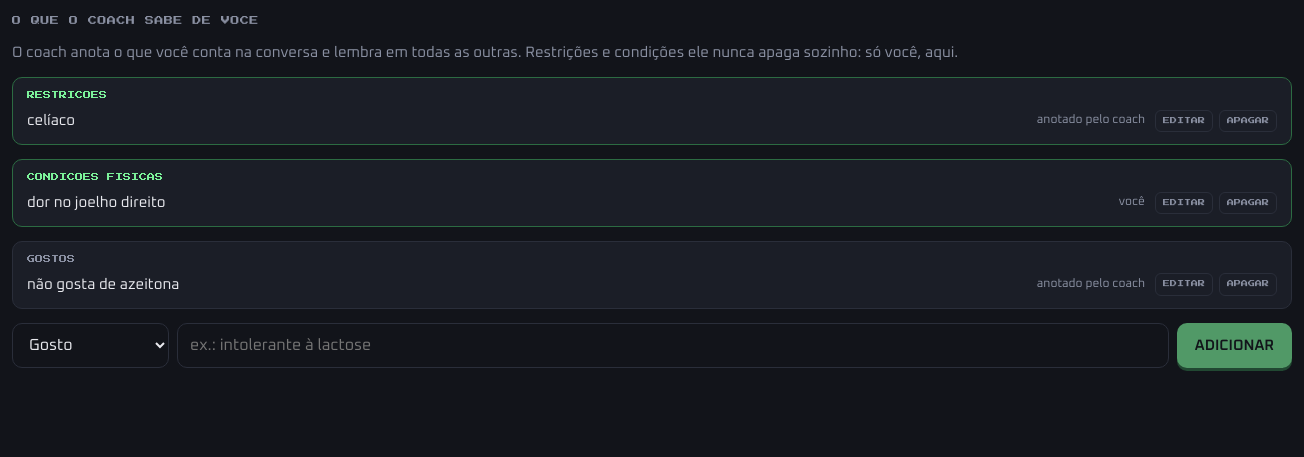
Scenario: Memorias › memória repetida ao editar mostra mensagem em português
The width and height of the screenshot is (1304, 457).
Click the button with aria-label "editar não gosta de azeitona".
click(1184, 284)  # box [1155, 273, 1213, 296]
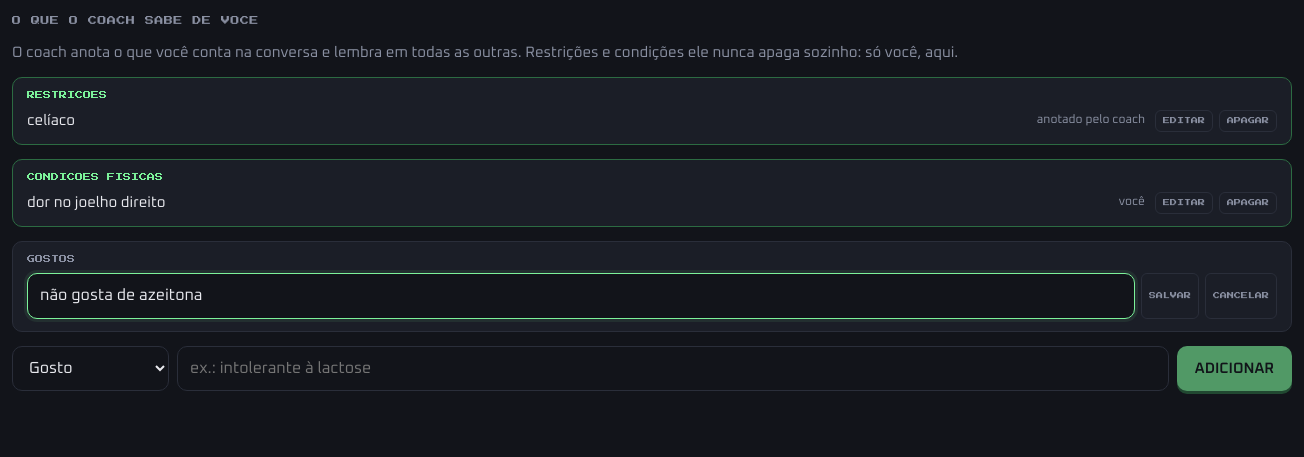
Replace the text in the field named "editar memória" with "celíaco" at (581, 296), box [27, 273, 1135, 319]
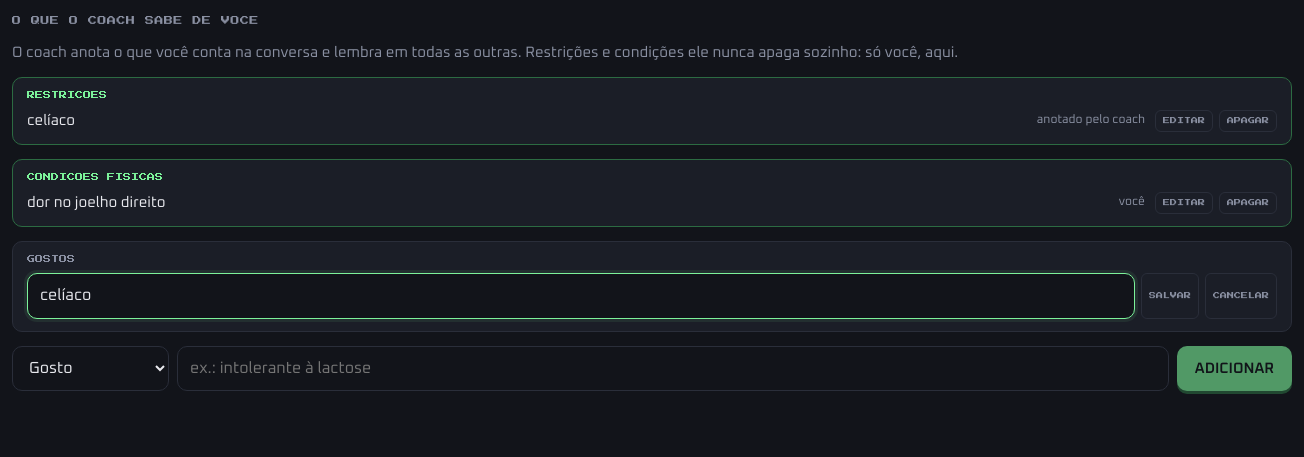
Click the button "SALVAR".
click(1170, 296)  # box [1141, 273, 1199, 319]
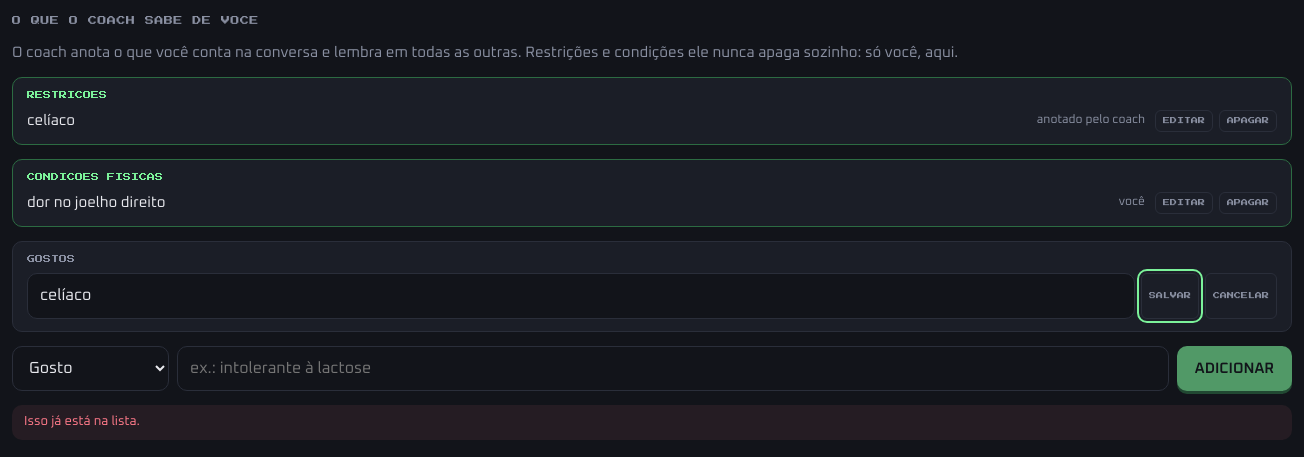
Result: the message shows "já está na lista" at [24, 415, 140, 428]
